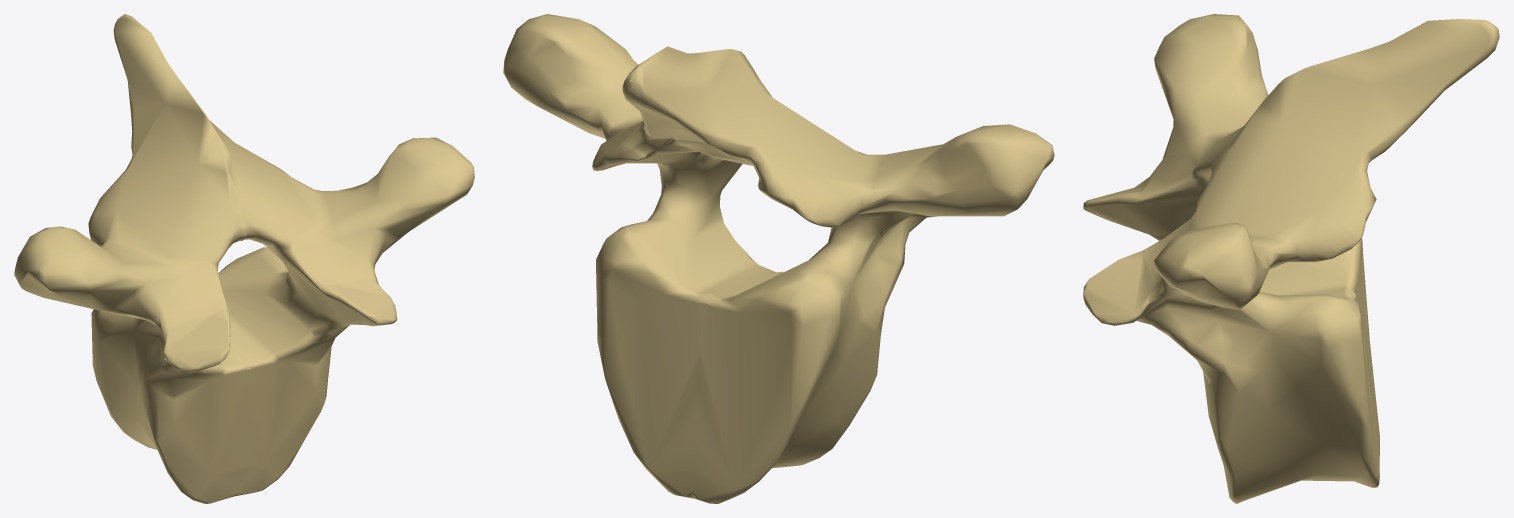
3 renders of one model, left to right at view 1: azimuth 30°, elevation 25°; view 2: azimuth 150°, elevation 25°; view 3: azimuth 270°, elevation 25°, orthographic. The views are drawn at different scales.
Visible parts, largest first — view 1: 第五胸椎; view 2: 第五胸椎; view 3: 第五胸椎.
Part boxes in pixels (x1,y1,x2,y2): 第五胸椎: (14, 14, 474, 503); 第五胸椎: (503, 14, 1054, 503); 第五胸椎: (1083, 14, 1499, 503).
Size of the model in its own units: 0.1111 by 0.0981 by 0.0786.
